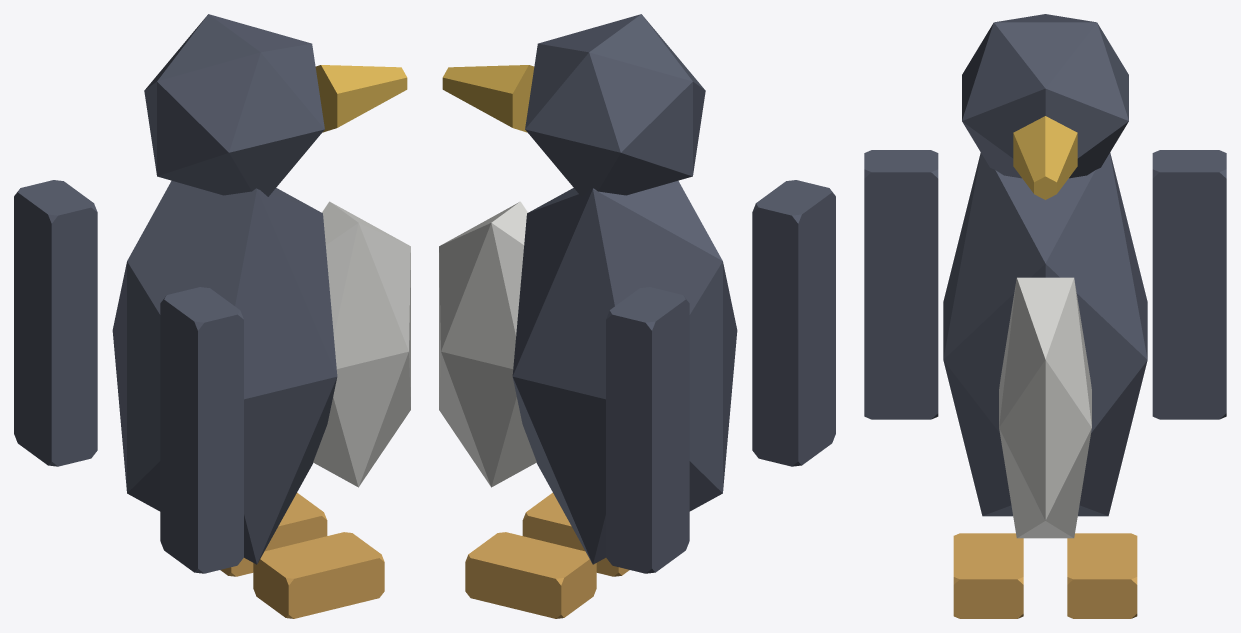
3 views of the same model, side by side, from view 1: azimuth 30°, elevation 25°; view 2: azimuth 150°, elevation 25°; view 3: azimuth 270°, elevation 25° (orthographic).
Visible parts, largest first — view 1: part0, part2, part4, part5, part1, part7, part3, part6; view 2: part0, part2, part5, part4, part1, part6, part3, part7; view 3: part0, part1, part4, part5, part2, part6, part7, part3.
Boxes of the visible parts, <box> form: part0: <box>112,181,337,564</box>; part2: <box>144,14,324,196</box>; part4: <box>14,180,97,466</box>; part5: <box>160,287,243,573</box>; part1: <box>313,201,410,487</box>; part7: <box>253,532,384,618</box>; part3: <box>315,65,407,132</box>; part6: <box>220,492,327,576</box>; part0: <box>512,181,737,564</box>; part2: <box>525,14,705,196</box>; part5: <box>752,180,835,466</box>; part4: <box>606,287,689,573</box>; part1: <box>439,201,536,487</box>; part6: <box>465,532,596,618</box>; part3: <box>442,65,534,132</box>; part7: <box>522,492,629,576</box>; part0: <box>943,152,1147,516</box>; part1: <box>999,277,1091,538</box>; part4: <box>1152,150,1226,419</box>; part5: <box>864,150,938,419</box>; part2: <box>962,14,1128,178</box>; part6: <box>1067,533,1137,618</box>; part7: <box>953,533,1023,618</box>; part3: <box>1013,116,1077,199</box>.
Size of the model in its own units: 1.59 by 2.76 by 1.66.
